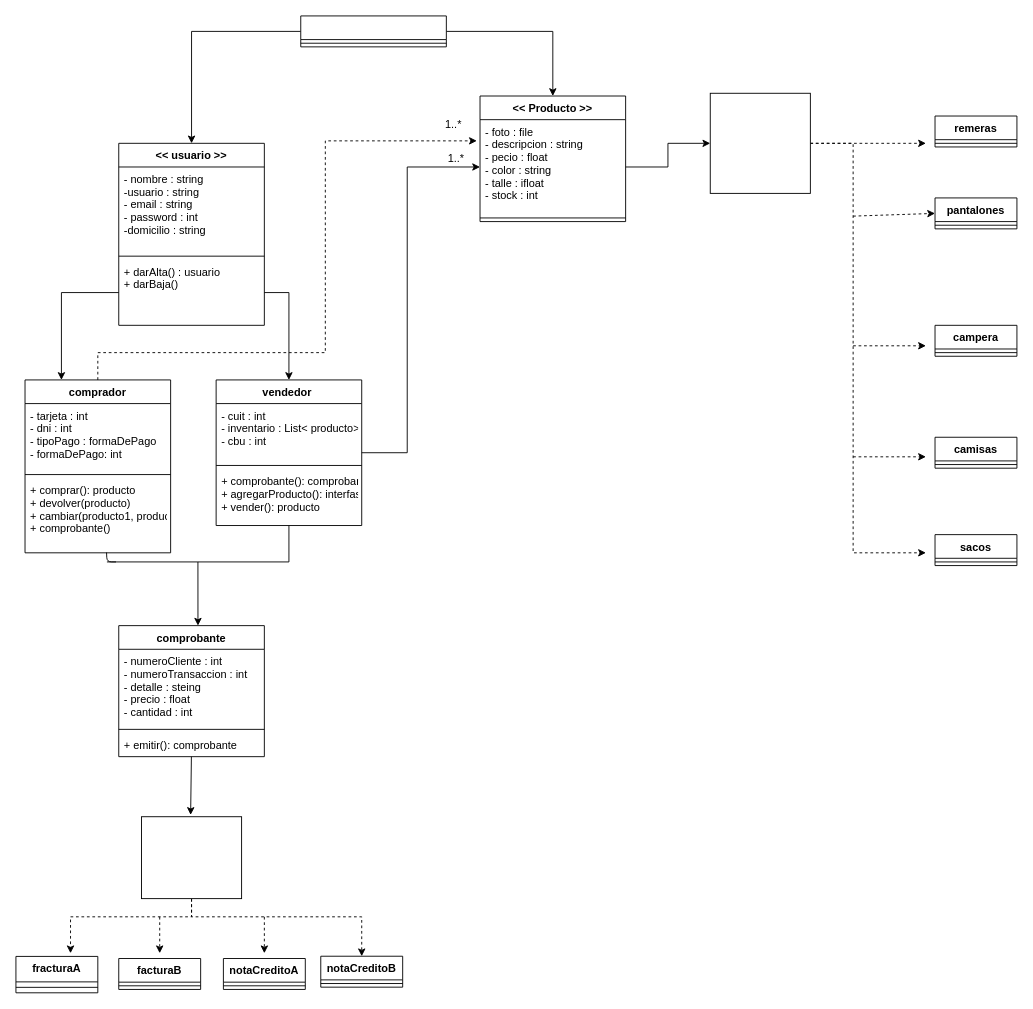
The diagram is 1033 pixels wide and 1009 high, and some of its shapes have lost their labels. Here are the shapes that lost their labels. From the top down, the centre of each, then its label:
point 373,31: Ecommers
point 759,142: « vestible » + vestir() : producto
point 191,857: « Emitible » emitir(): bool
